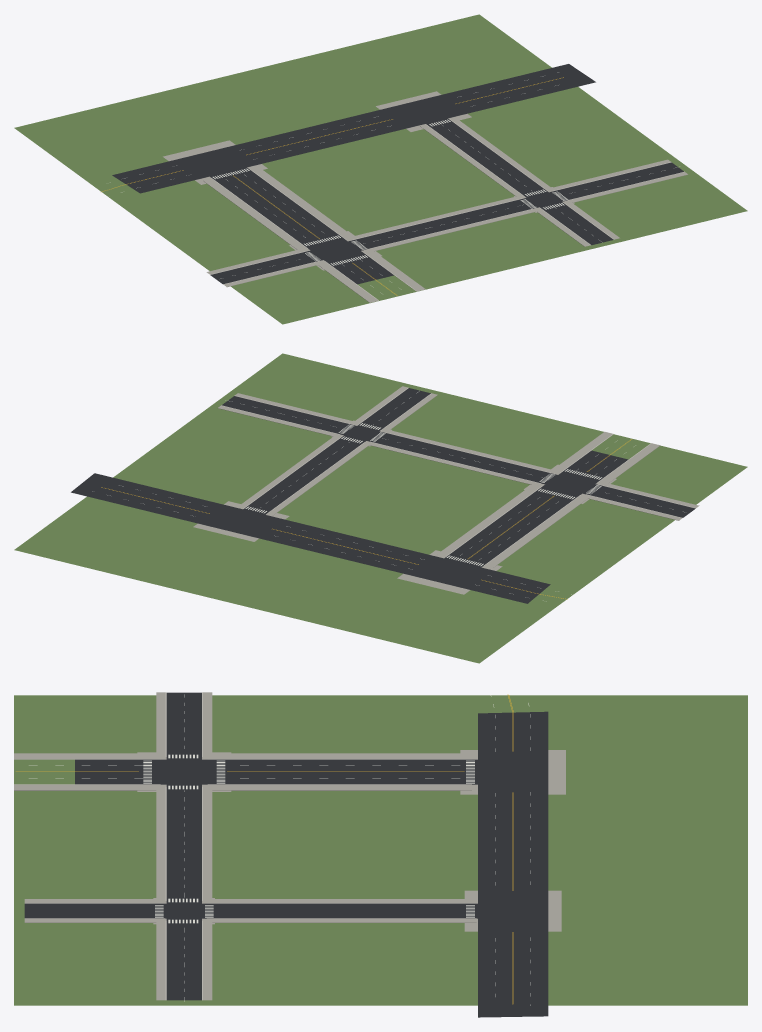
File: Ground_1_7.fbx
The picture shows the model from 3 angles, top to bottom: view 1: azimuth 30°, elevation 25°; view 2: azimuth 150°, elevation 25°; view 3: azimuth 270°, elevation 25°; orthographic projection. The views are drawn at different scales.
Visible parts, largest first — view 1: Ground_1_7; view 2: Ground_1_7; view 3: Ground_1_7.
Boxes of the visible parts, x1,y1,x2,y2 form: Ground_1_7: [14, 14, 747, 324]; Ground_1_7: [14, 353, 747, 663]; Ground_1_7: [14, 692, 747, 1017].
Size of the model in its own units: 262 by 0.14 by 250.
